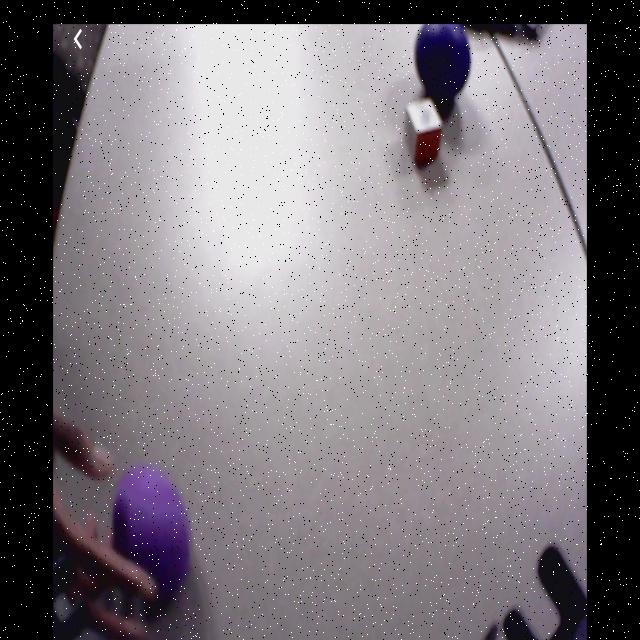ball: (113, 471, 193, 589), (416, 26, 472, 102)
